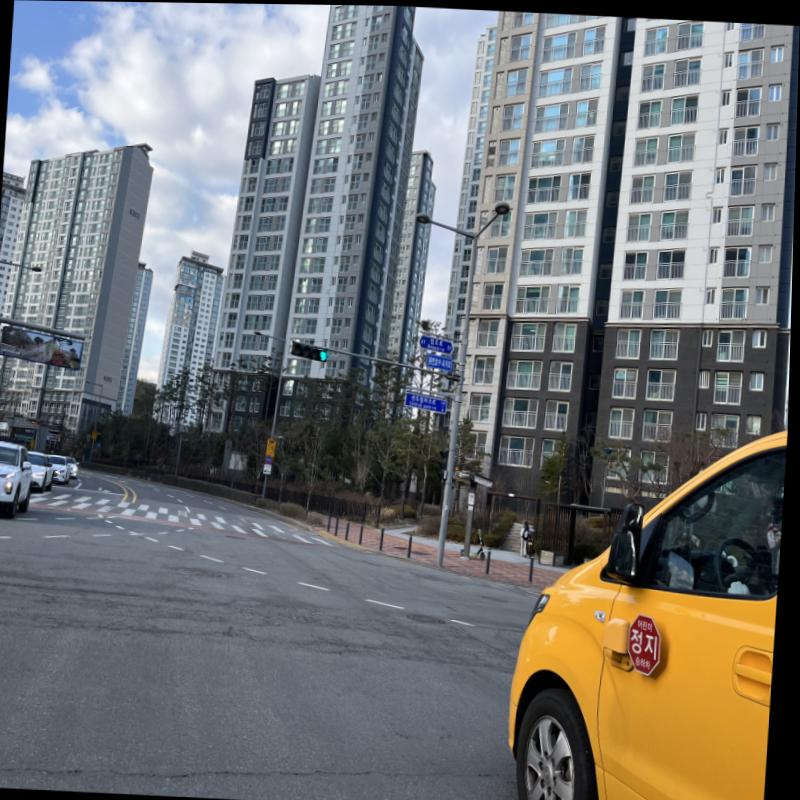green: (321, 349, 329, 359)
